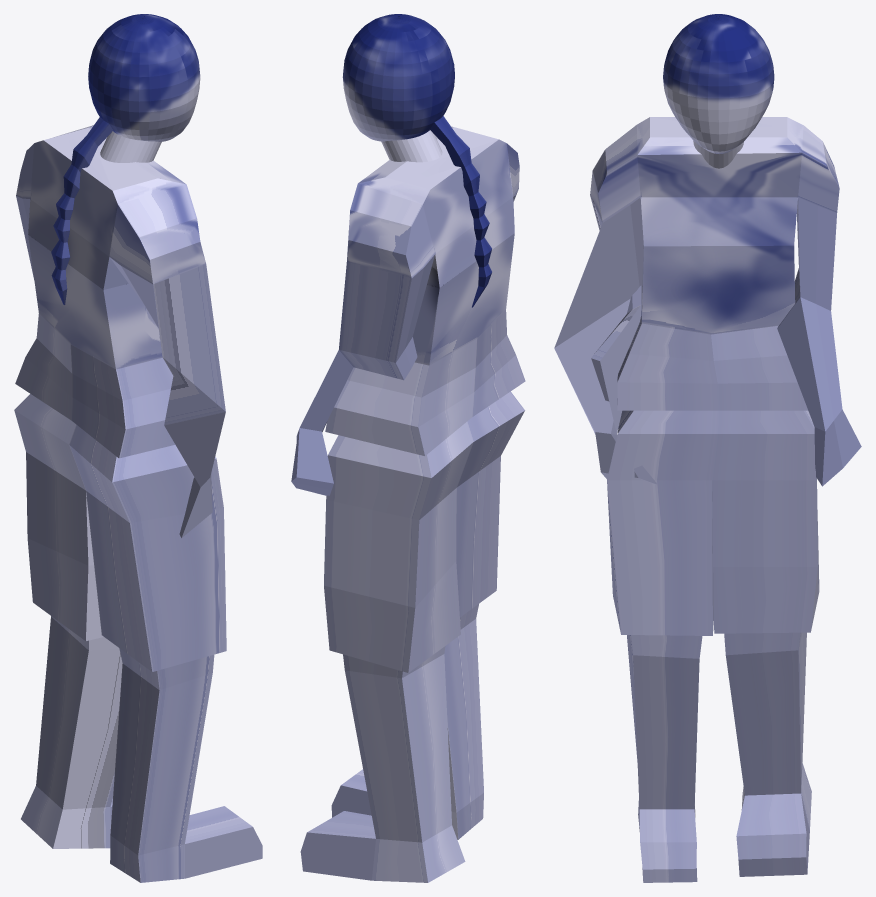
The model's file is walkingmannohat.gltf.
The picture shows the model from 3 angles, left to right: view 1: azimuth 30°, elevation 25°; view 2: azimuth 150°, elevation 25°; view 3: azimuth 270°, elevation 25°; orthographic projection.
Parts seen in each view (by area): view 1: Cube.001, Cube, Cylinder; view 2: Cube.001, Cube, Cylinder; view 3: Cube.001, Cube.
Boxes of the visible parts, x1,y1,x2,y2 form: Cube.001: (14,125,262,882); Cube: (51,14,200,304); Cylinder: (100,131,161,162); Cube.001: (291,126,525,882); Cube: (342,14,491,307); Cylinder: (381,130,442,162); Cube.001: (554,117,861,882); Cube: (663,14,774,153).
Size of the model in its own units: 3.23 by 15.18 by 5.07.
3 materials, 3 textured.
